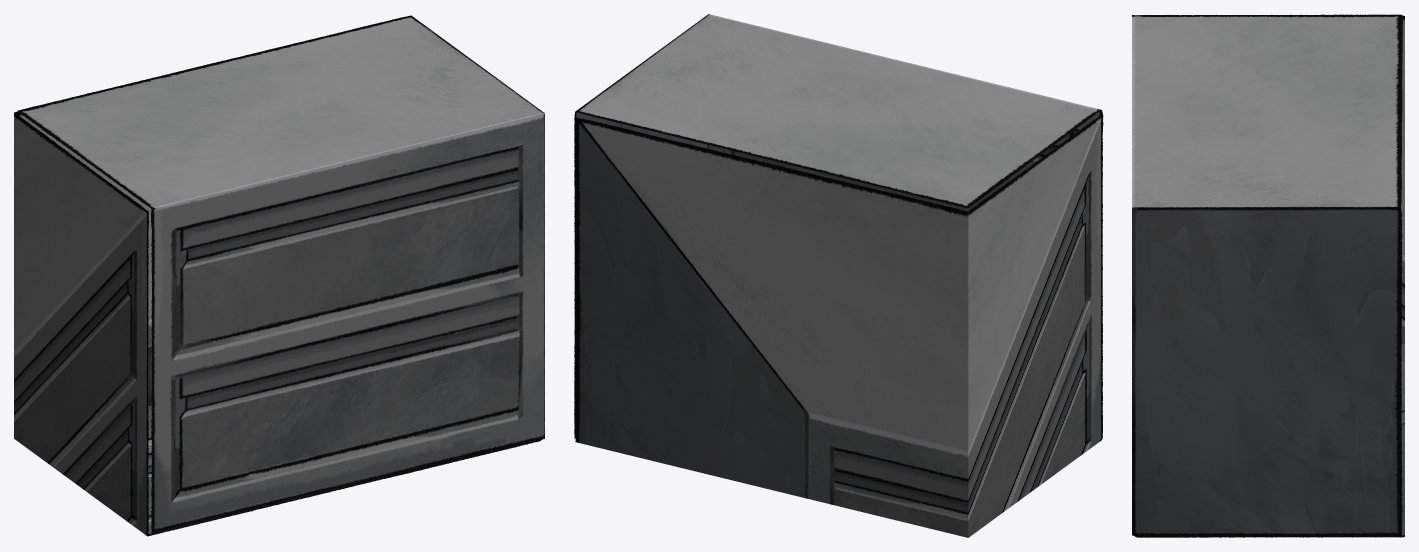
3 views of the same model, side by side, from view 1: azimuth 30°, elevation 25°; view 2: azimuth 150°, elevation 25°; view 3: azimuth 270°, elevation 25° (orthographic).
Parts seen in each view (by area): view 1: 立方体; view 2: 立方体; view 3: 立方体.
Boxes of the visible parts, left/top/right/bottom form: 立方体: left=14, top=15, right=544, bottom=536; 立方体: left=574, top=14, right=1103, bottom=537; 立方体: left=1132, top=14, right=1404, bottom=537.
Bounding box in the file's own units: 2076 × 1647 × 1234.
Materials: 1 (1 with a texture image).
